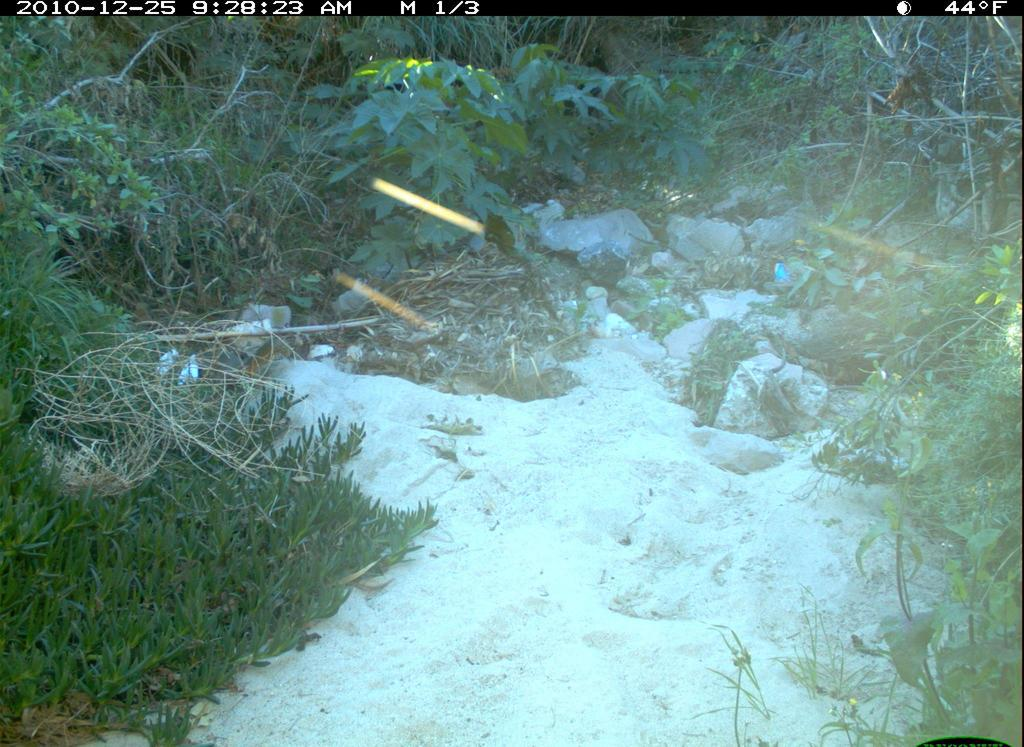squirrel: (195, 338, 296, 396)
